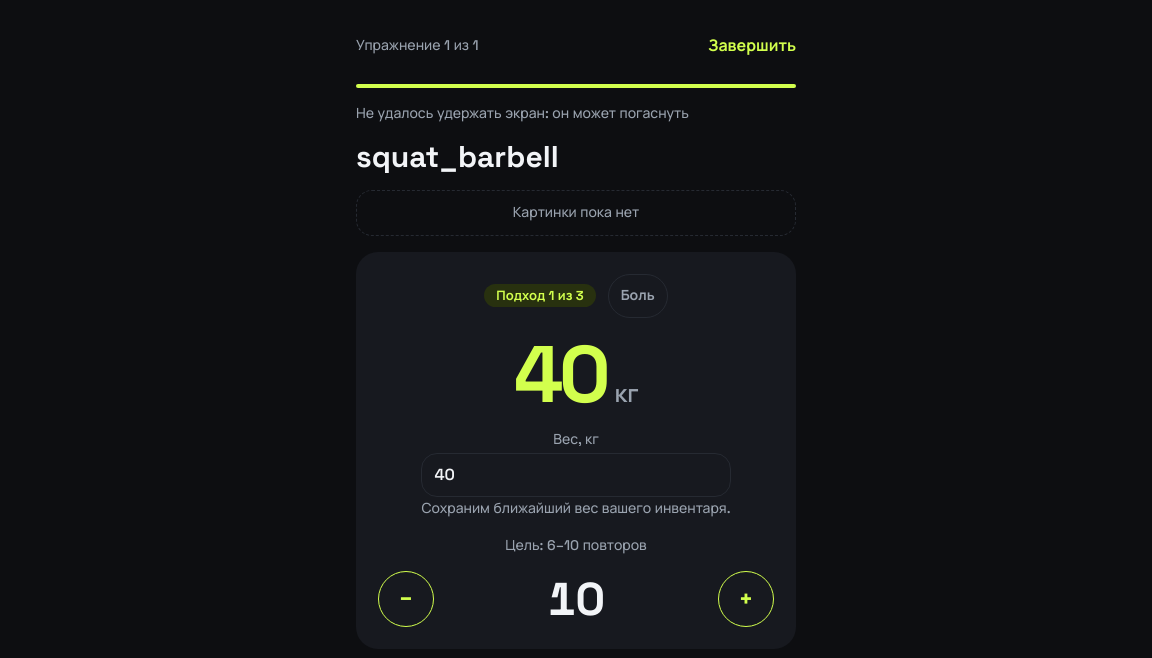
Test: завершение тренировки › «Завершить» зовёт /finish один раз и показывает сводку со строкой «План обновлён»
Click the button with aria-label "Завершить тренировку".
click(752, 46)  # box [708, 24, 796, 68]
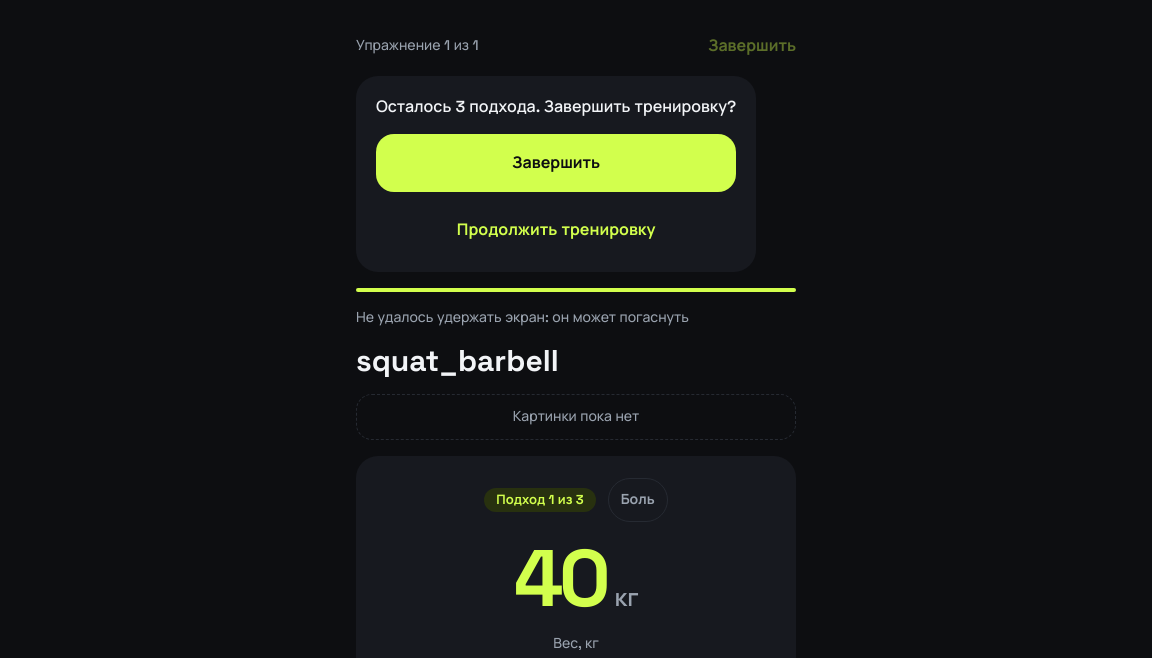
Click the button "Завершить" below "Осталось".
click(556, 163)  # box [376, 134, 736, 192]
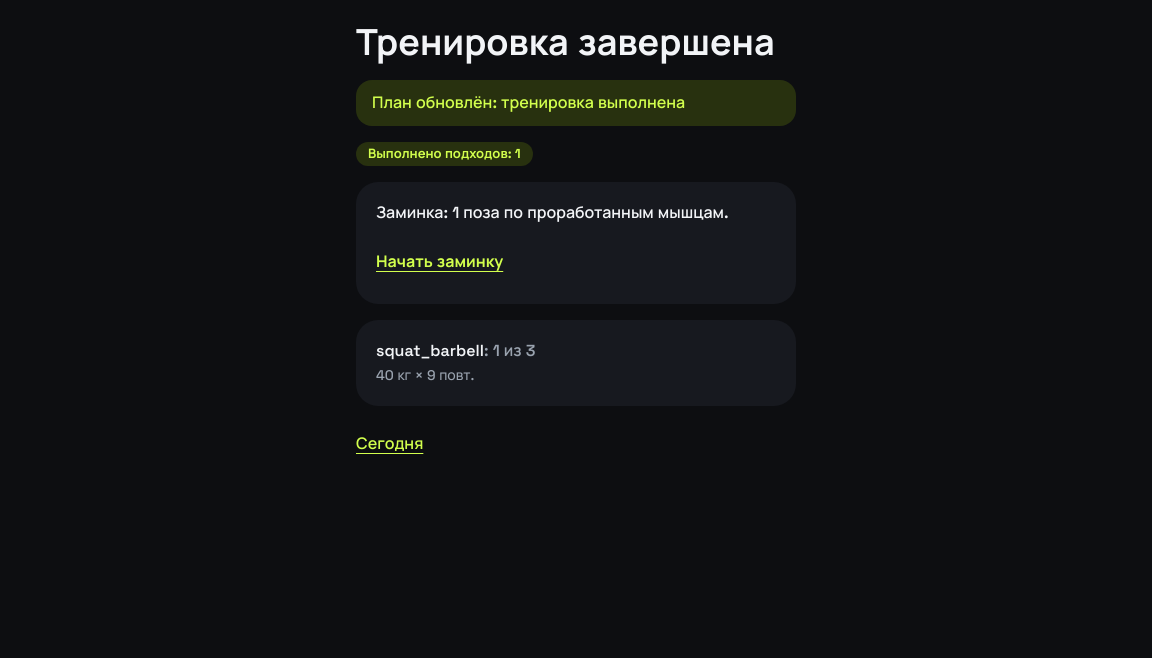
Now the text with test id "plan-notice" reads "План обновлён: тренировка выполнена", box [372, 92, 685, 113]
Now the text with test id "summary-total" reads "Выполнено подходов: 1", box [368, 145, 521, 162]
Now the list with test id "summary-exercises" shows "squat_barbell: 1 из 3", box [356, 320, 796, 406]
